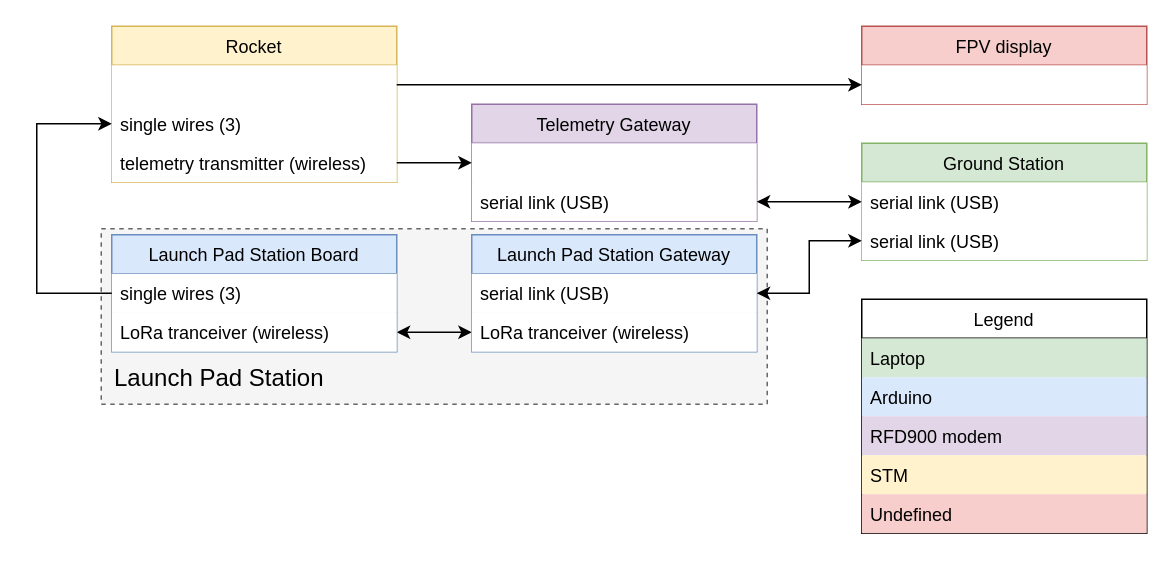
Image size: 1173x564. Some labels were removed from this diagram. The shapes that lost their labels are listed below. From the top down, each one's centre as x and y in pixels, then its label:
At pixel 253 84: "FPV transmitter (wireless)".
At pixel 1003 84: "FPV receiver (wireless)".
At pixel 613 162: "telemetry receiver (wireless)".
